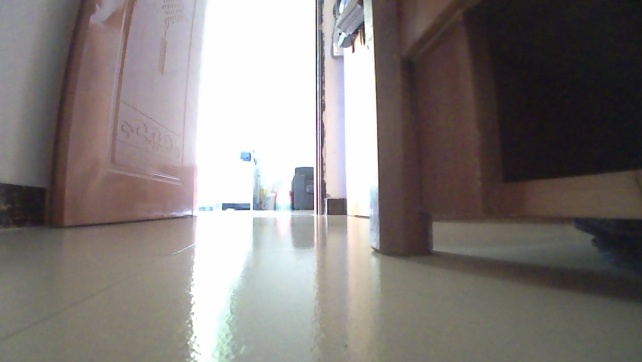door: (37, 0, 211, 233)
